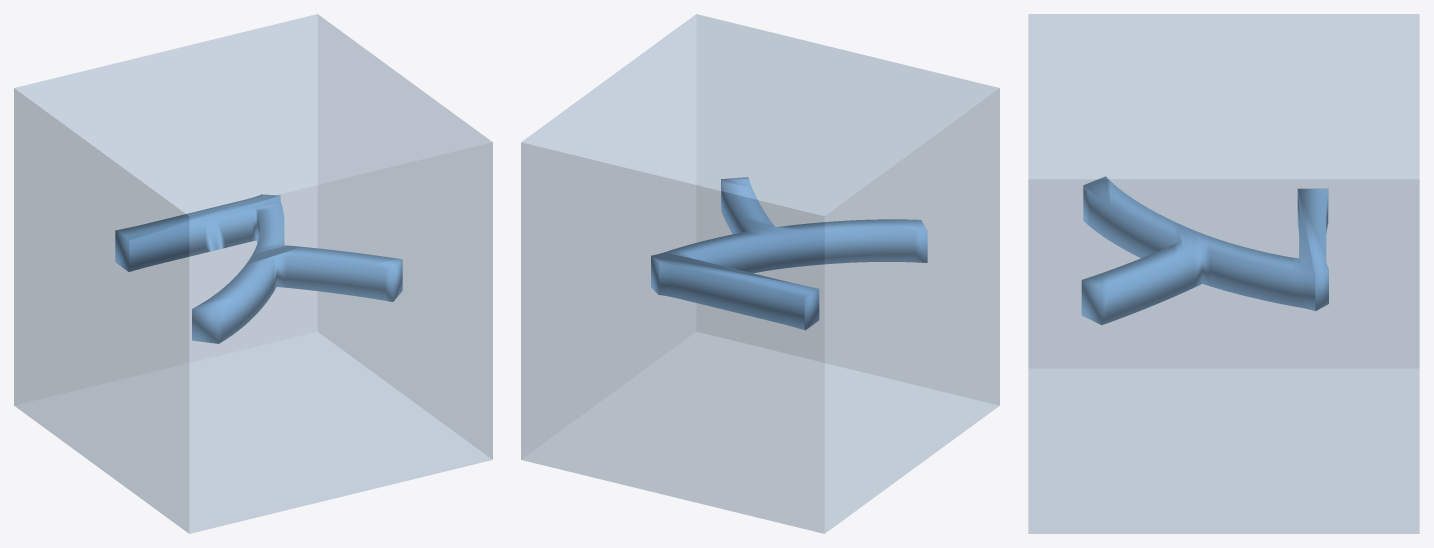
File: Title_Ice11.obj
3 renders of one model, left to right at view 1: azimuth 30°, elevation 25°; view 2: azimuth 150°, elevation 25°; view 3: azimuth 270°, elevation 25°, orthographic. The views are drawn at different scales.
Parts seen in each view (by area): view 1: 11.ス; view 2: 11.ス; view 3: 11.ス.
Part boxes in pixels (x1=…): 11.ス: x1=14, y1=14, x2=492, y2=533; 11.ス: x1=521, y1=14, x2=999, y2=533; 11.ス: x1=1028, y1=14, x2=1419, y2=533.
Bounding box in the file's own units: 2 × 2 × 2.
1 material, 1 textured.
